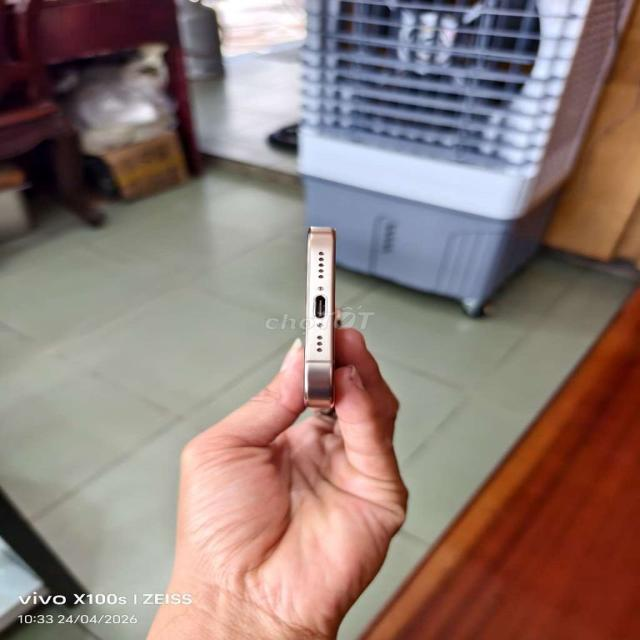gen_16: (305, 226, 335, 411)
